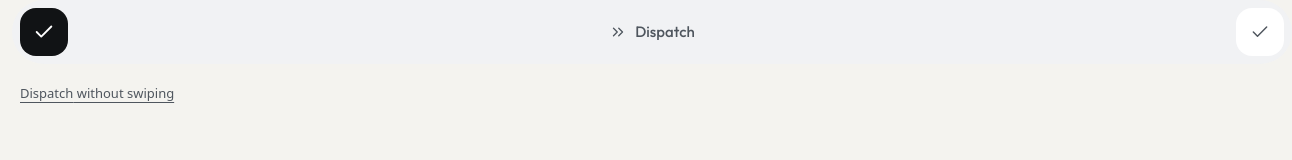
Test: SwipeToConfirm › confirms once with the tap alternative
The width and height of the screenshot is (1292, 160).
Click the button "Dispatch without swiping". click: (97, 94)
box: [12, 72, 182, 116]
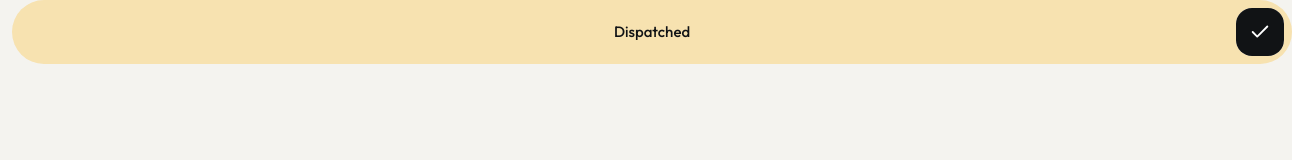
Now the button named "Dispatched" is shown, box [1236, 8, 1284, 56]
Now the button "Dispatch without swiping" is gone
